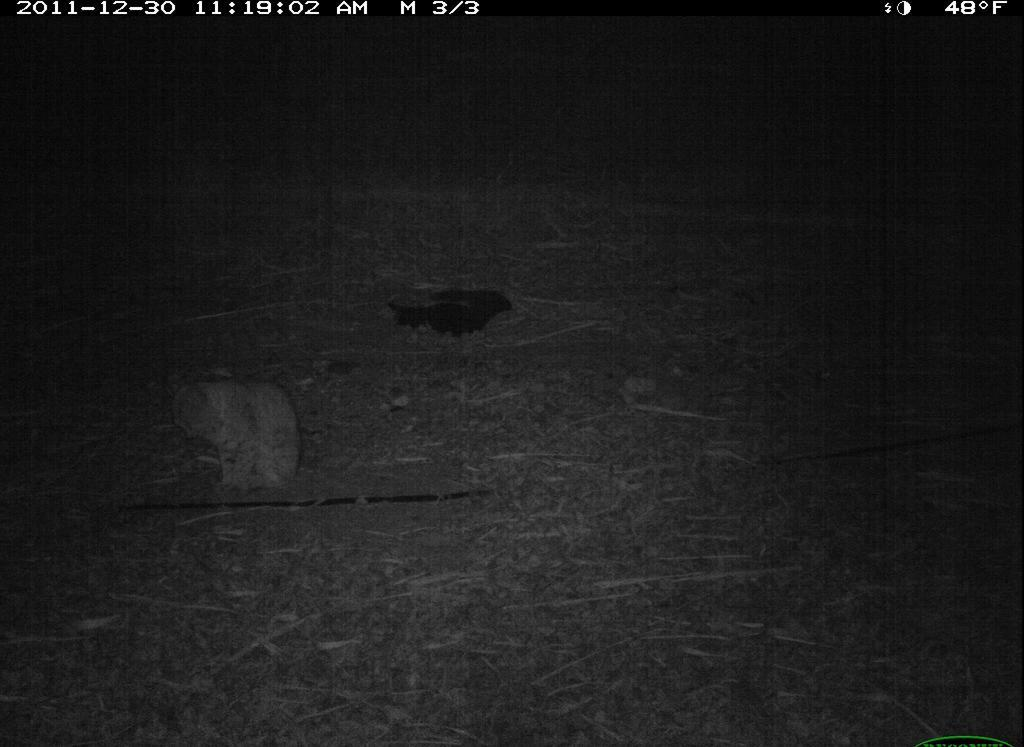bobcat: (154, 364, 315, 500)
